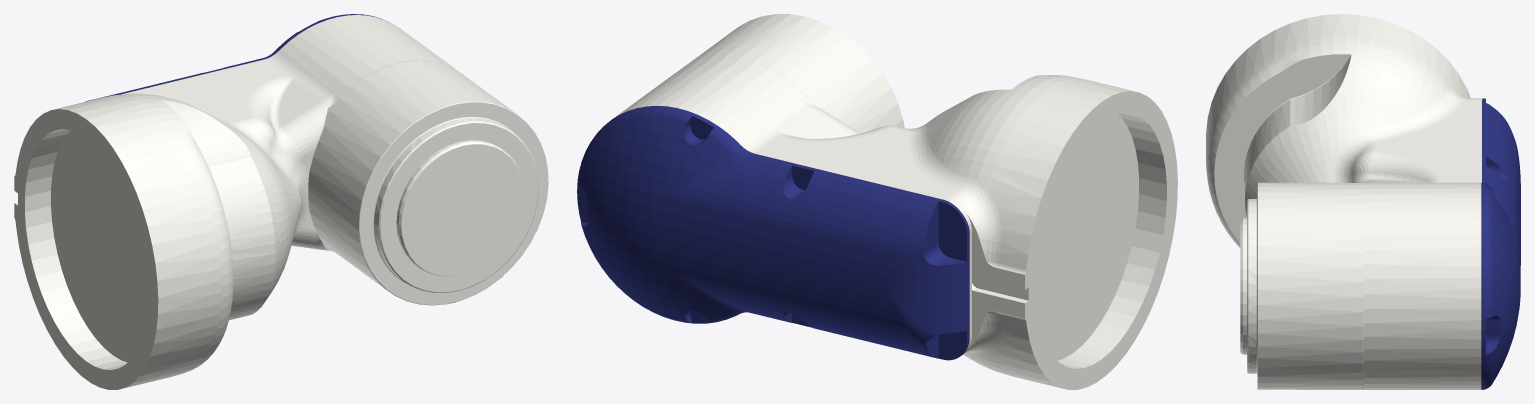
The picture shows the model from 3 angles, left to right: view 1: azimuth 30°, elevation 25°; view 2: azimuth 150°, elevation 25°; view 3: azimuth 270°, elevation 25°; orthographic projection. The views are drawn at different scales.
Parts seen in each view (by area): view 1: link_r_r; view 2: link_r_r; view 3: link_r_r.
Boxes of the visible parts, left/top/right/bottom form: link_r_r: left=14, top=14, right=548, bottom=389; link_r_r: left=577, top=14, right=1177, bottom=389; link_r_r: left=1206, top=14, right=1520, bottom=389.
Size of the model in its own units: 0.176 by 0.1215 by 0.105.
1 material, 1 textured.
